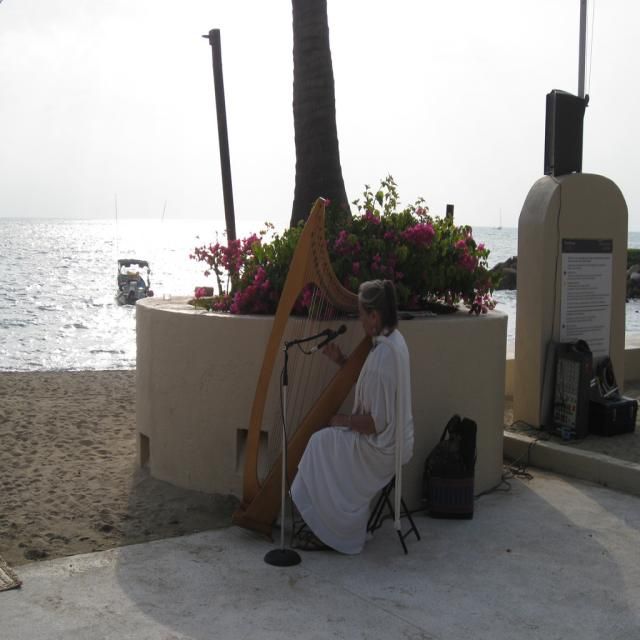harp: (236, 192, 396, 538)
